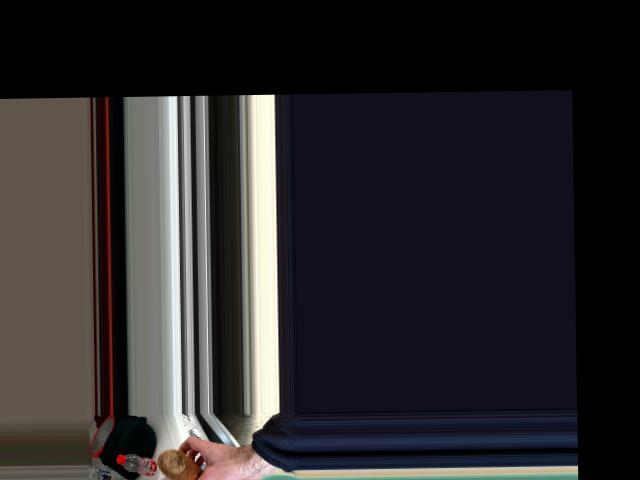sweet_potato: (157, 452, 208, 480)
